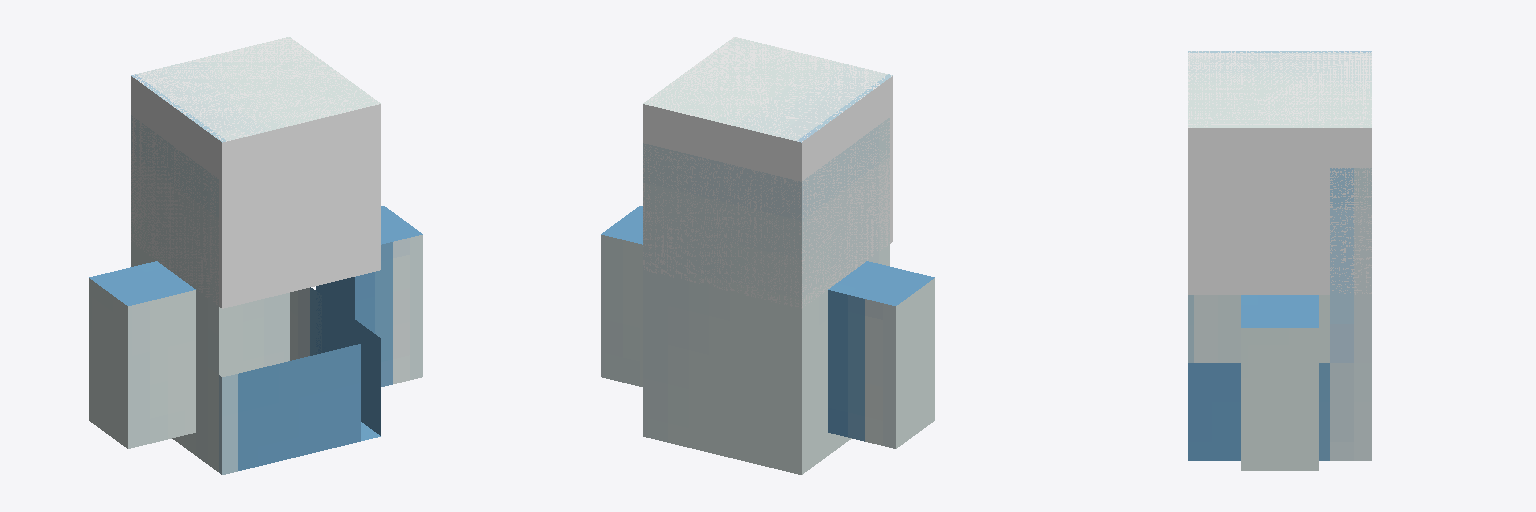
3 views of the same model, side by side, from view 1: azimuth 30°, elevation 25°; view 2: azimuth 150°, elevation 25°; view 3: azimuth 270°, elevation 25° (orthographic).
Parts seen in each view (by area): view 1: head, king_8angles, left, right; view 2: head, king_8angles, left, right; view 3: head, king_8angles, right.
Part boxes in pixels (left/top/right/bottom): head: left=131, top=37, right=380, bottom=308; king_8angles: left=131, top=242, right=380, bottom=474; left: left=89, top=261, right=195, bottom=448; right: left=316, top=206, right=422, bottom=386; head: left=643, top=37, right=892, bottom=308; king_8angles: left=643, top=245, right=889, bottom=474; left: left=828, top=261, right=934, bottom=448; right: left=601, top=206, right=642, bottom=386; head: left=1188, top=51, right=1371, bottom=294; king_8angles: left=1188, top=295, right=1371, bottom=460; right: left=1241, top=295, right=1318, bottom=470.
Bounding box in the file's own units: 4.83 × 5.2 × 2.6.
2 materials, 1 textured.